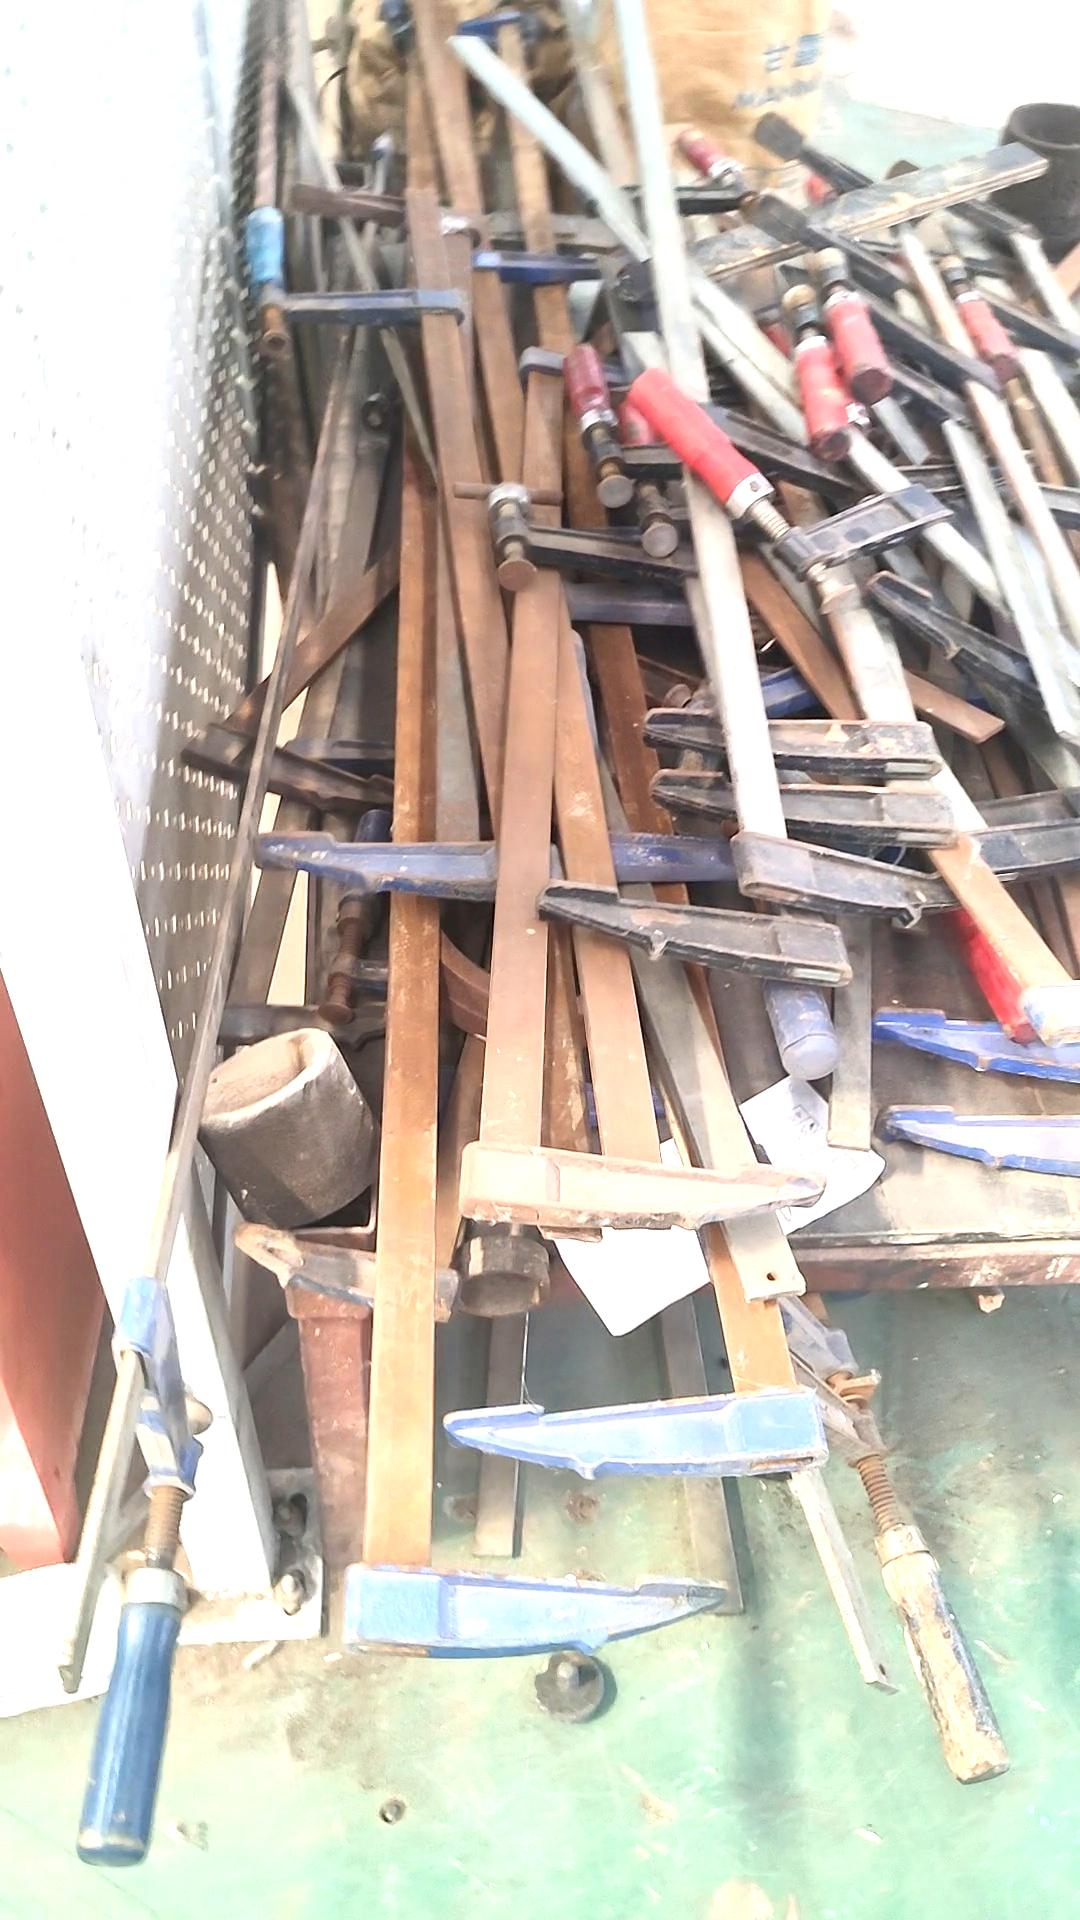pouring hole: (189, 1025, 328, 1122), (1005, 102, 1080, 149)
